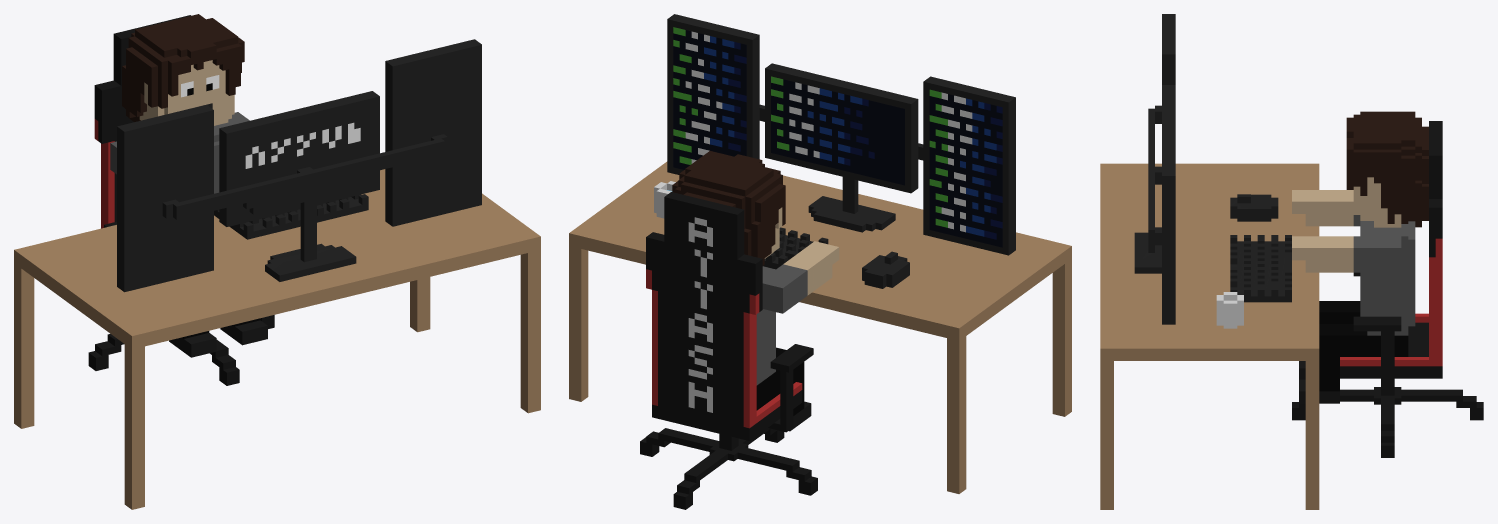
The model's file is ayyub.glb.
3 views of the same model, side by side, from view 1: azimuth 30°, elevation 25°; view 2: azimuth 150°, elevation 25°; view 3: azimuth 270°, elevation 25° (orthographic). The views are drawn at different scales.
Visible parts, largest first — view 1: Comp-2, Comp-4, Comp-3, Comp-0; view 2: Comp-2, Comp-4, Comp-0, Comp-3; view 3: Comp-4, Comp-3, Comp-2, Comp-0, Comp-1.
Part boxes in pixels (x1,y1,x2,y2): Comp-2: (117,39,481,292); Comp-4: (14,169,540,509); Comp-3: (110,14,267,357); Comp-0: (88,15,274,385); Comp-2: (667,14,1015,288); Comp-4: (569,161,1071,493); Comp-0: (640,192,817,509); Comp-3: (672,151,839,431); Comp-4: (1100,163,1319,509); Comp-3: (1292,111,1428,403); Comp-2: (1134,14,1291,324); Comp-0: (1292,121,1483,457); Comp-1: (1216,292,1243,328).
Size of the model in its own units: 6.4 by 5.2 by 5.6.
Materials: 5 (5 with a texture image).
